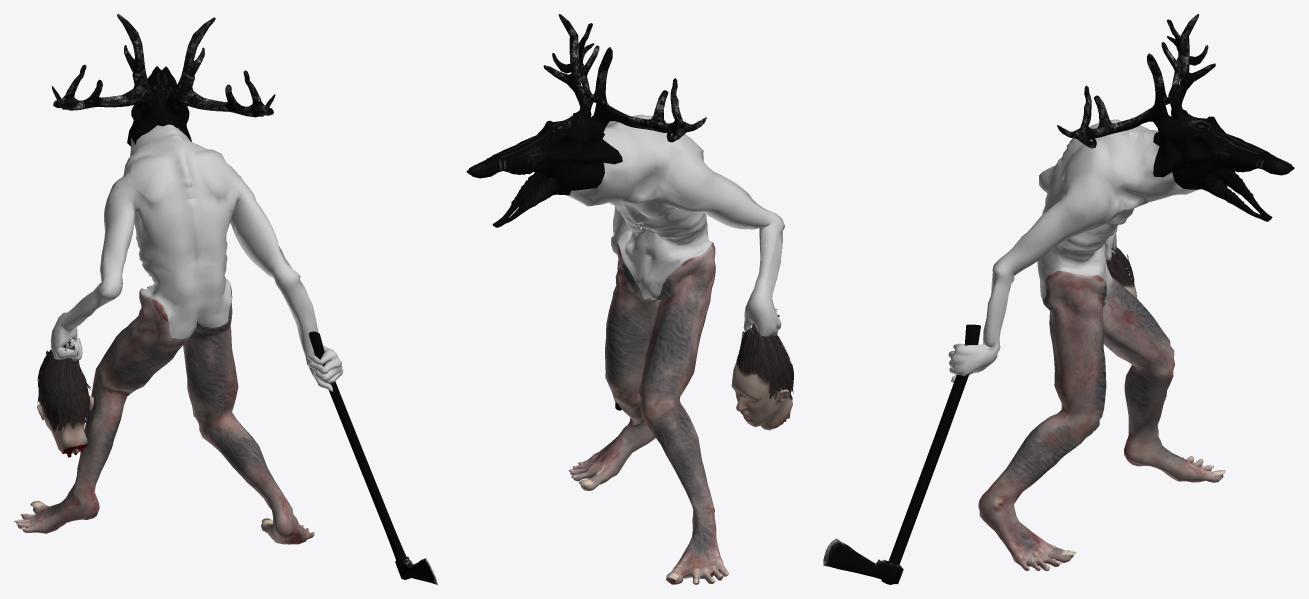
The model's file is wendigo(clean).fbx.
3 views of the same model, side by side, from view 1: azimuth 30°, elevation 25°; view 2: azimuth 150°, elevation 25°; view 3: azimuth 270°, elevation 25° (orthographic). The views are drawn at different scales.
Visible parts, largest first — view 1: Wendgo, BezierCurve.166_BezierCurve.175, Axe, SeveredHead; view 2: Wendgo, SeveredHead, BezierCurve.166_BezierCurve.175; view 3: Wendgo, Axe, BezierCurve.166_BezierCurve.175.
Boxes of the visible parts, x1,y1,x2,y2 form: Wendgo: (14, 14, 343, 544); BezierCurve.166_BezierCurve.175: (37, 341, 91, 431); Axe: (308, 331, 437, 584); SeveredHead: (37, 374, 94, 457); Wendgo: (466, 14, 784, 584); SeveredHead: (731, 354, 792, 430); BezierCurve.166_BezierCurve.175: (736, 309, 793, 399); Wendgo: (948, 14, 1294, 571); Axe: (823, 324, 980, 584); BezierCurve.166_BezierCurve.175: (1106, 247, 1134, 286).
Size of the model in its own units: 525 by 913 by 772.
